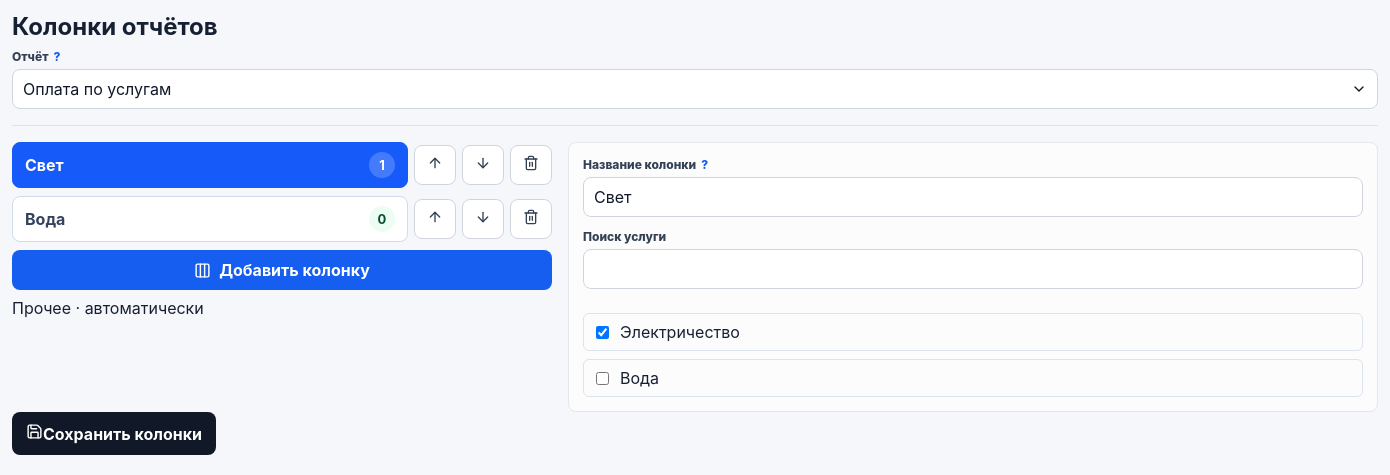
Test: shows service counts as separate badges and identifies assigned columns without duplicate text separators
The image size is (1390, 475).
Check: the button with aria-label "Свет, услуг: 1" does not show "·", box [12, 142, 408, 188]
Click the button with aria-label "Вода, услуг: 0" at (45, 219), box [12, 196, 408, 242]
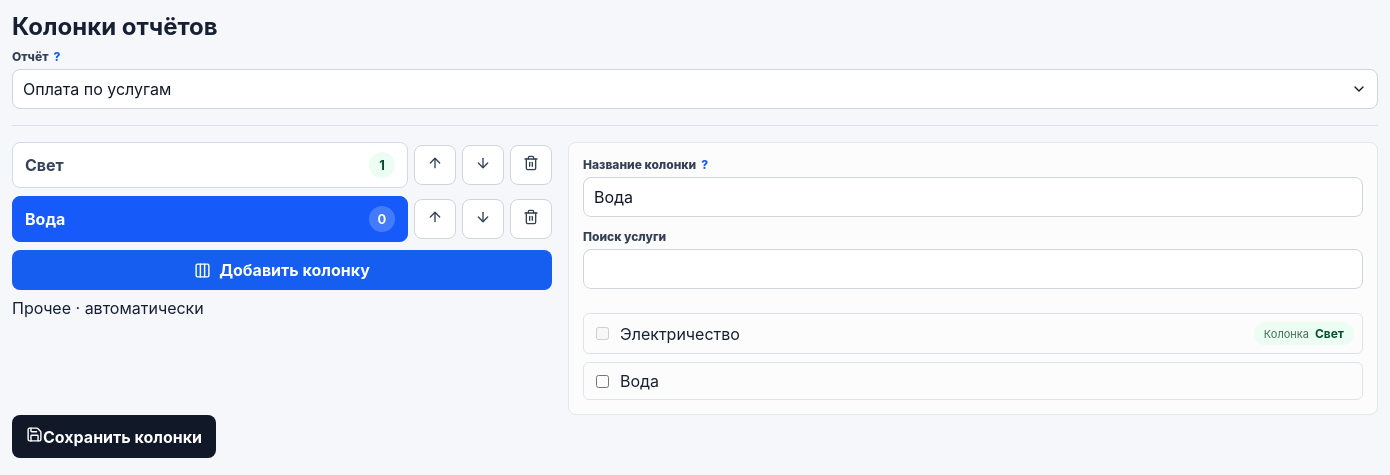
Check: the label named "Услуга Электричество" does not show "·", box [583, 313, 1363, 354]
Check: the text "Свет" is shown, box [1315, 326, 1344, 341]
Check: the checkbox named "Услуга Электричество" is disabled, box [596, 327, 609, 340]
